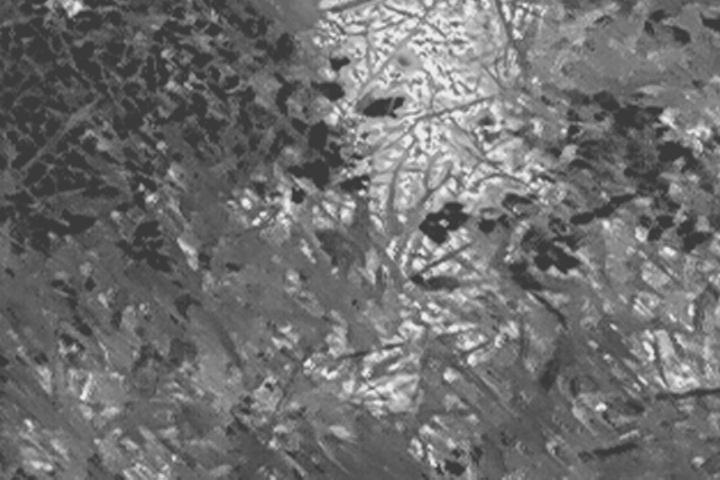landmine: (324, 3, 556, 204)
